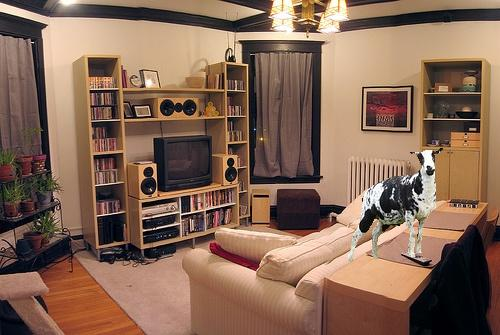tampered: (349, 149, 443, 262)
